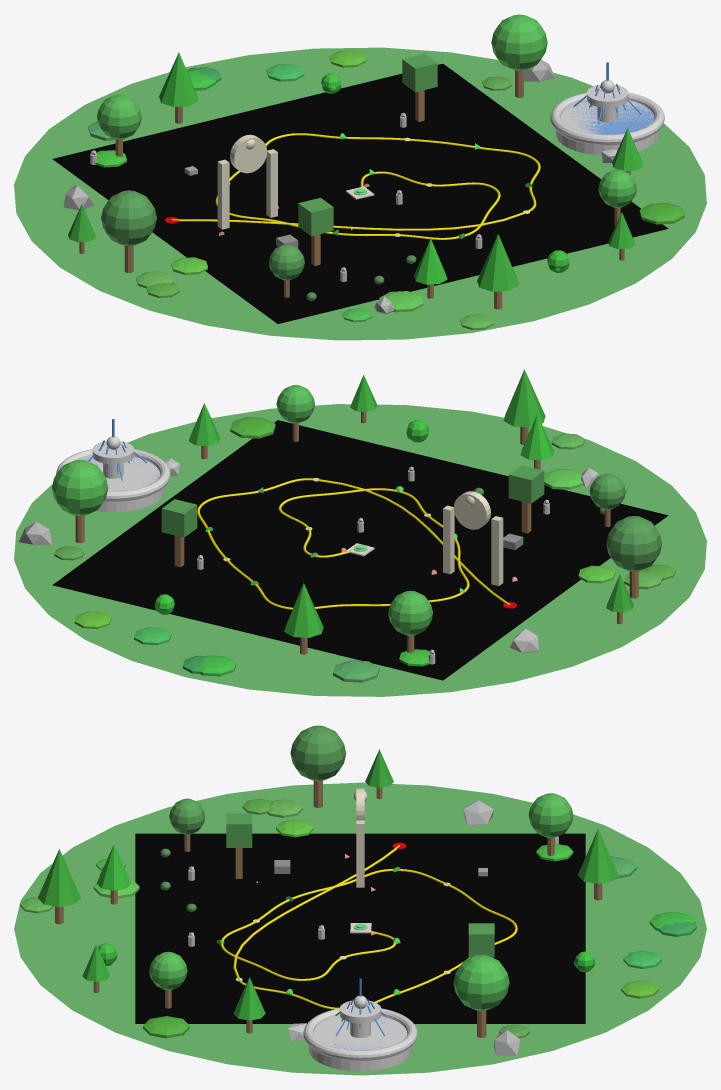
The model's file is no wall and no everything.glb.
The picture shows the model from 3 angles, top to bottom: view 1: azimuth 30°, elevation 25°; view 2: azimuth 150°, elevation 25°; view 3: azimuth 270°, elevation 25°; orthographic projection.
Parts seen in each view (by area): view 1: MazeFloor.002, MazeFloor.003, MazeFloor.059, MazeFloor.065, MazeFloor.058, MazeFloor.029, MazeFloor.038, MazeFloor.031, MazeFloor.060, MazeFloor.041, MazeFloor.027, MazeFloor.015 (+13 smaller); view 2: MazeFloor.002, MazeFloor.003, MazeFloor.059, MazeFloor.058, MazeFloor.065, MazeFloor.029, MazeFloor.038, MazeFloor.031, MazeFloor.041, MazeFloor.027, MazeFloor.074, MazeFloor.076 (+15 smaller); view 3: MazeFloor.002, MazeFloor.003, MazeFloor.059, MazeFloor.065, MazeFloor.029, MazeFloor.038, MazeFloor.031, MazeFloor.041, MazeFloor.027, MazeFloor.015, MazeFloor.033, MazeFloor.074 (+10 smaller).
Part boxes in pixels (left/top/right/bottom): MazeFloor.002: left=52, top=63, right=668, bottom=323; MazeFloor.003: left=14, top=47, right=706, bottom=340; MazeFloor.059: left=550, top=80, right=664, bottom=155; MazeFloor.065: left=172, top=133, right=540, bottom=239; MazeFloor.058: left=217, top=134, right=277, bottom=229; MazeFloor.029: left=491, top=14, right=547, bottom=70; MazeFloor.038: left=101, top=190, right=156, bottom=246; MazeFloor.031: left=97, top=94, right=141, bottom=139; MazeFloor.060: left=564, top=100, right=654, bottom=134; MazeFloor.041: left=477, top=234, right=518, bottom=291; MazeFloor.027: left=159, top=52, right=198, bottom=106; MazeFloor.015: left=598, top=169, right=636, bottom=207; MazeFloor.002: left=52, top=420, right=668, bottom=680; MazeFloor.003: left=14, top=404, right=706, bottom=696; MazeFloor.059: left=56, top=436, right=170, bottom=511; MazeFloor.058: left=443, top=491, right=503, bottom=585; MazeFloor.065: left=197, top=478, right=510, bottom=609; MazeFloor.029: left=52, top=459, right=108, bottom=515; MazeFloor.038: left=606, top=516, right=661, bottom=571; MazeFloor.031: left=388, top=590, right=433, bottom=635; MazeFloor.041: left=503, top=369, right=545, bottom=427; MazeFloor.027: left=284, top=583, right=323, bottom=637; MazeFloor.074: left=508, top=465, right=544, bottom=503; MazeFloor.076: left=161, top=499, right=197, bottom=537; MazeFloor.002: left=135, top=833, right=585, bottom=1023; MazeFloor.003: left=14, top=782, right=706, bottom=1075; MazeFloor.059: left=303, top=995, right=417, bottom=1071; MazeFloor.065: left=221, top=845, right=517, bottom=1009; MazeFloor.029: left=453, top=954, right=509, bottom=1010; MazeFloor.038: left=290, top=725, right=346, bottom=781; MazeFloor.031: left=528, top=793, right=573, bottom=837; MazeFloor.041: left=38, top=849, right=80, bottom=906; MazeFloor.027: left=577, top=829, right=618, bottom=883; MazeFloor.015: left=149, top=951, right=187, bottom=990; MazeFloor.033: left=169, top=798, right=205, bottom=834; MazeFloor.074: left=226, top=813, right=252, bottom=847.
Size of the model in its own units: 40 by 6.53 by 40.
